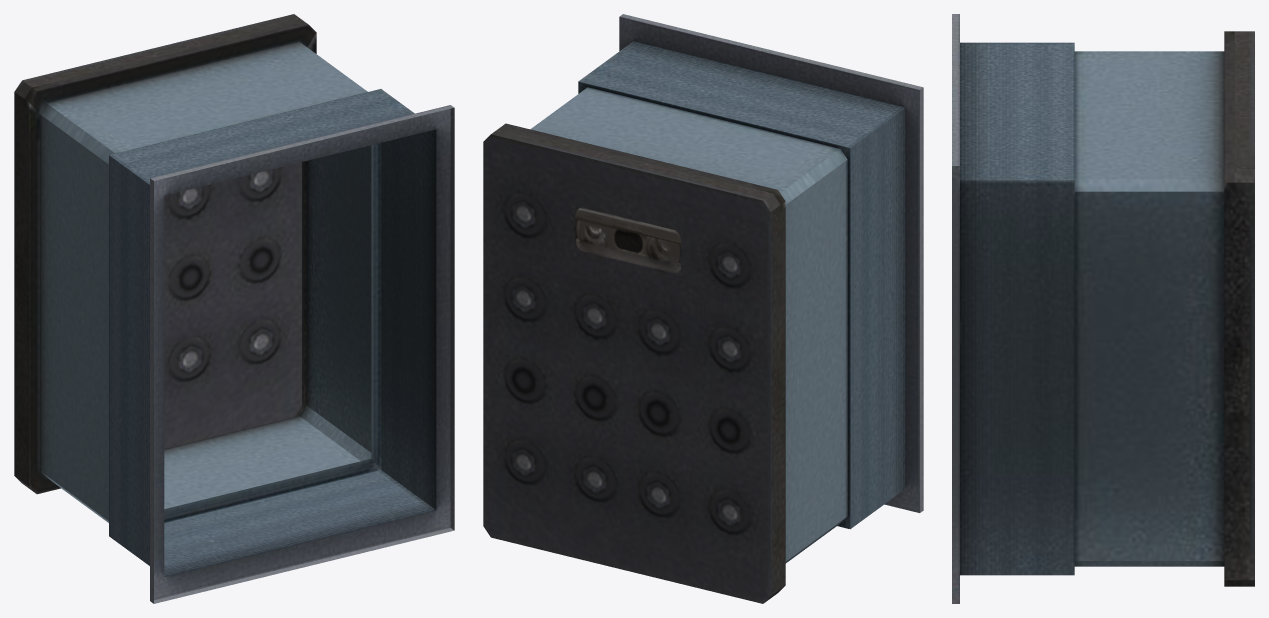
Rendered from box_shpilki.FBX.
The picture shows the model from 3 angles, left to right: view 1: azimuth 30°, elevation 25°; view 2: azimuth 150°, elevation 25°; view 3: azimuth 270°, elevation 25°; orthographic projection. The views are drawn at different scales.
Visible parts, largest first — view 1: box_shpil; view 2: box_shpil; view 3: box_shpil.
Boxes of the visible parts, x1,y1,x2,y2 form: box_shpil: (14,14,454,603); box_shpil: (483,14,923,603); box_shpil: (952,14,1254,603).
Size of the model in its own units: 3.55 by 4.77 by 2.99.
Materials: 1 (1 with a texture image).
